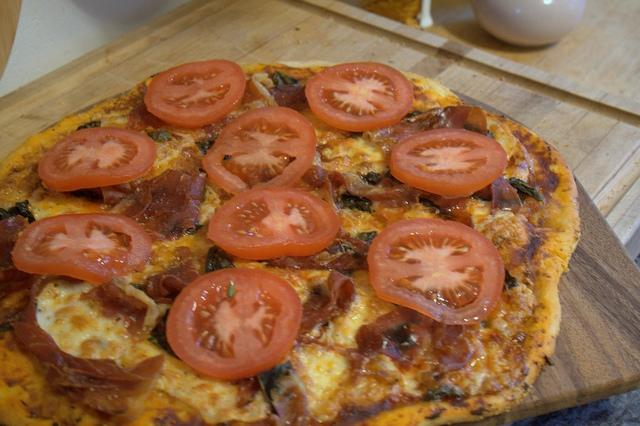tomato: (166, 268, 302, 380), (366, 218, 504, 326), (11, 212, 153, 286), (202, 106, 316, 196), (206, 186, 340, 260), (390, 128, 507, 198), (37, 126, 157, 192), (305, 62, 414, 132), (144, 59, 248, 128)
